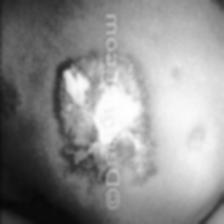Unclassified: (54, 36, 100, 178), (118, 48, 154, 182), (185, 130, 205, 154), (167, 61, 187, 84)
